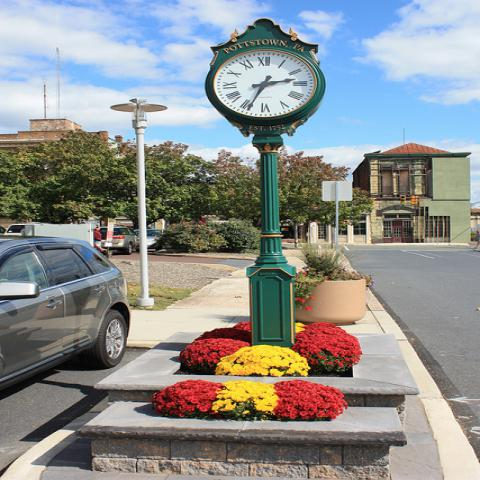car: (0, 237, 132, 395), (98, 224, 140, 255), (133, 228, 165, 250), (4, 224, 40, 235)
